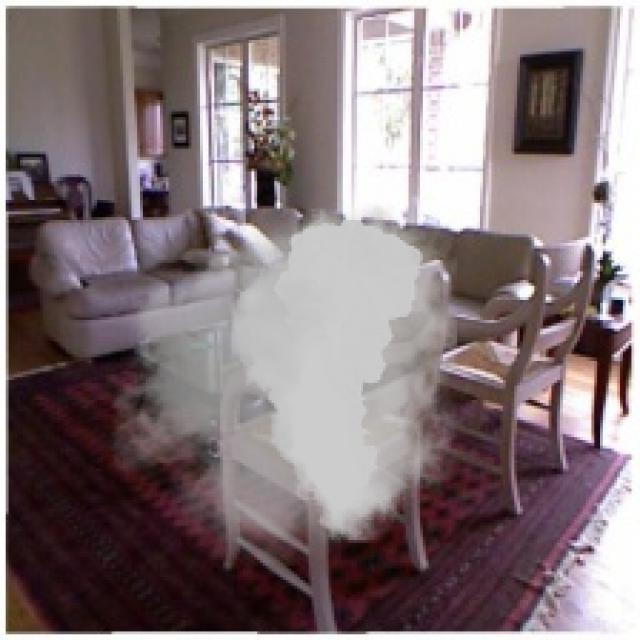smoke: (89, 194, 488, 566)
